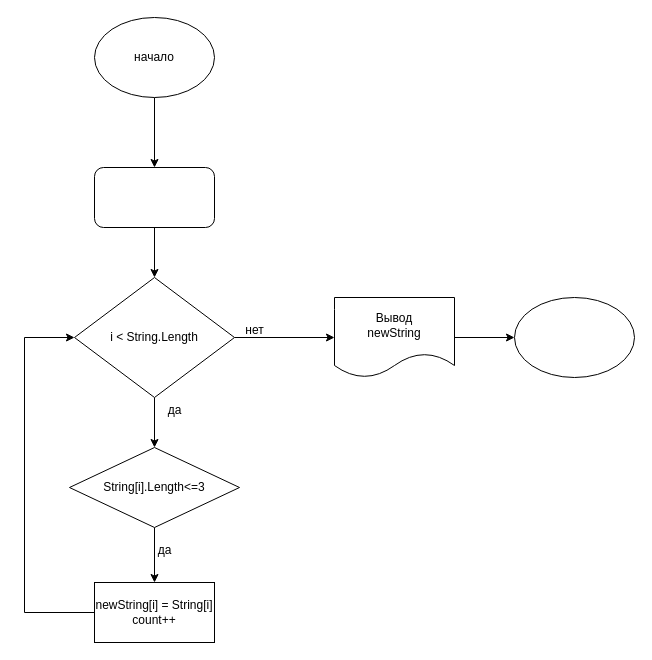
The diagram is 652 pixels wide and 660 high, and some of its shapes have lost their labels. Here are the shapes that lost their labels. From the top down, the centre of each, then its label:
At point 154,197: "string[] String string[] newString count = 0".
At point 574,337: "Конец".
